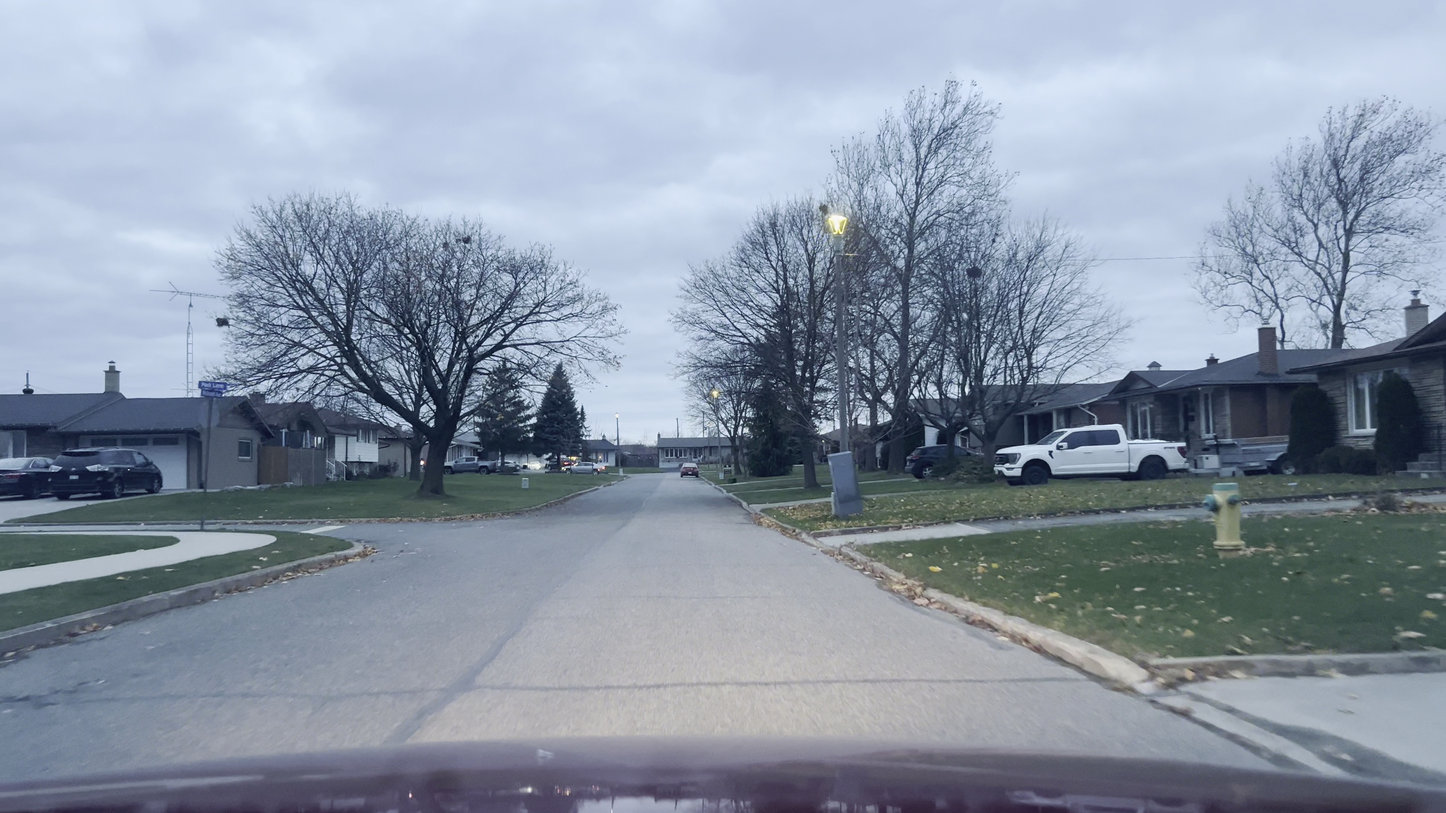cracks: (389, 647, 509, 738)
